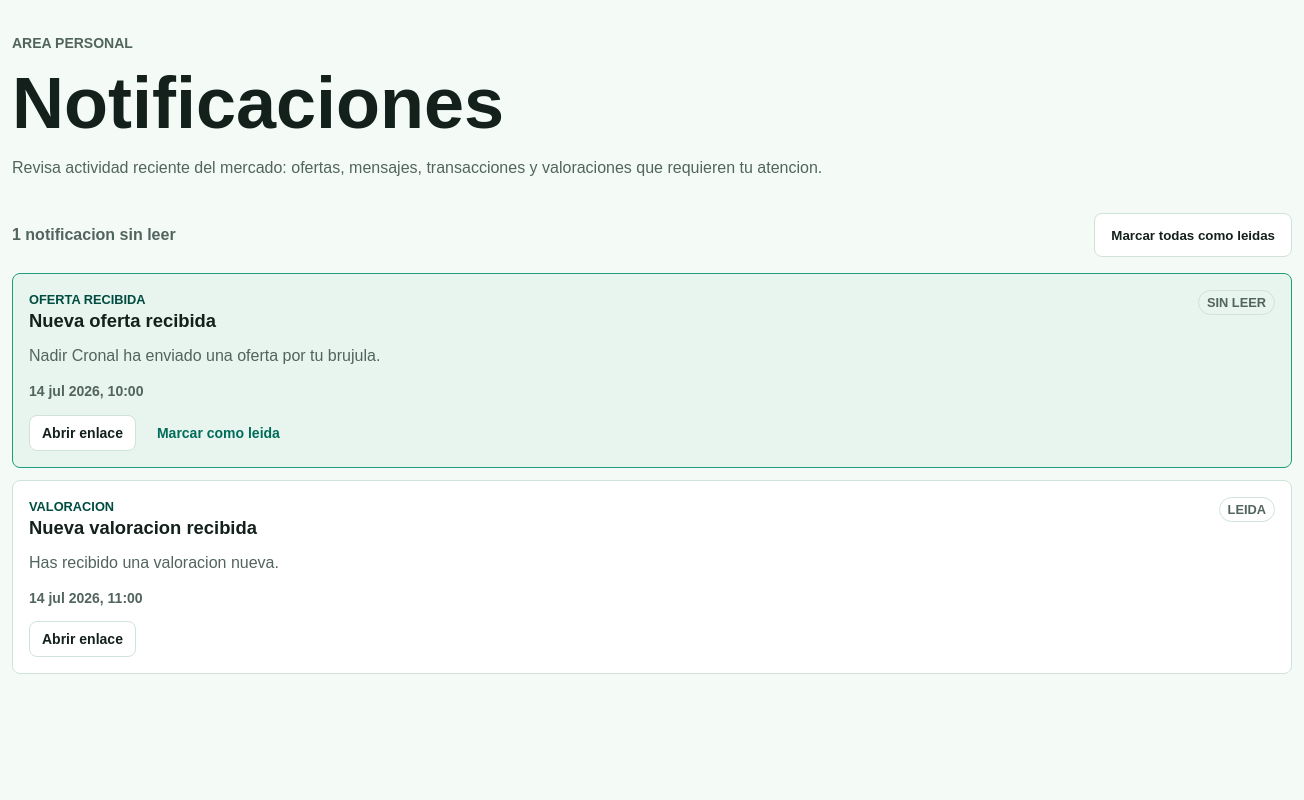
Scenario: NotificationsPage › lists notifications and marks one as read
Expected: the heading "Nueva oferta recibida" is shown, [29,310,216,332]
Expected: the heading "Nueva valoracion recibida" is shown, [29,517,257,539]
Click the button "Marcar como leida": {"x": 218, "y": 433} [144,415,293,451]
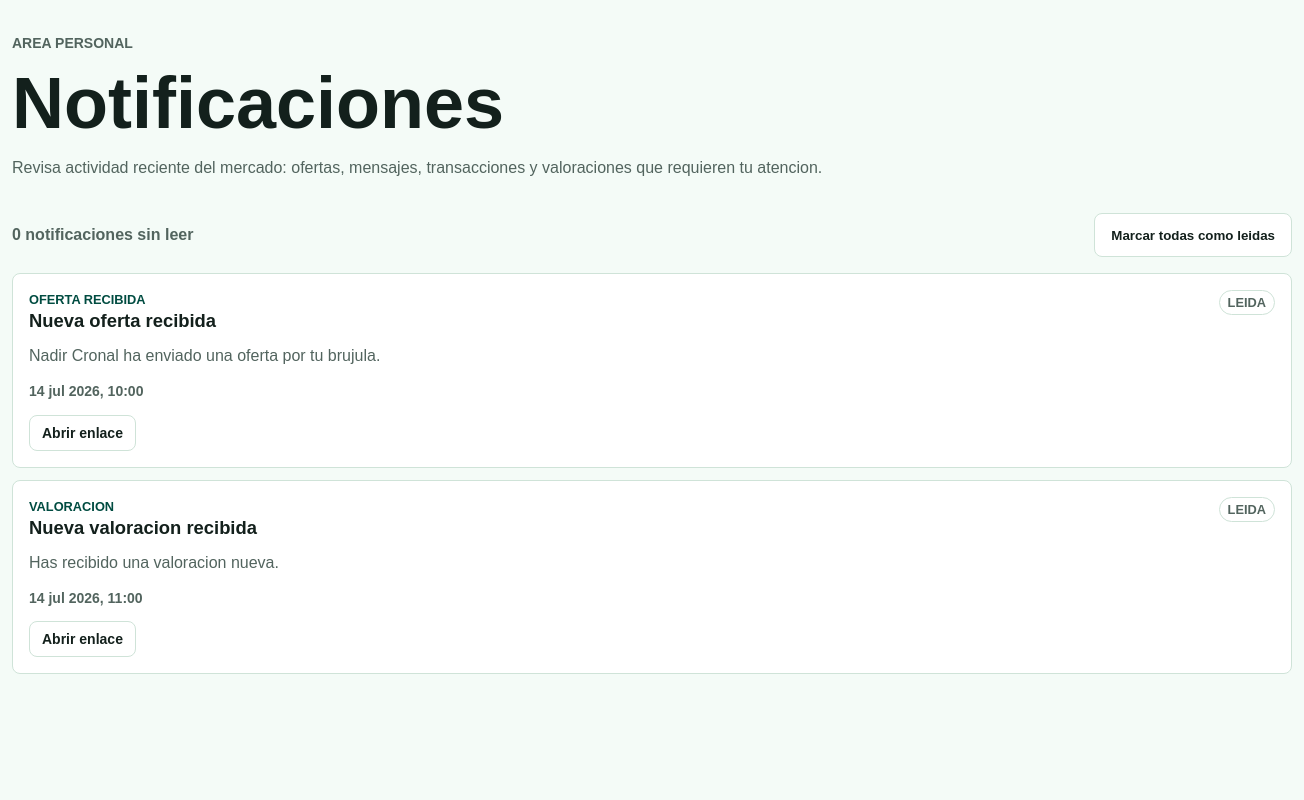
Expected: the text "0 notificaciones sin leer" is shown, [12,226,193,244]
